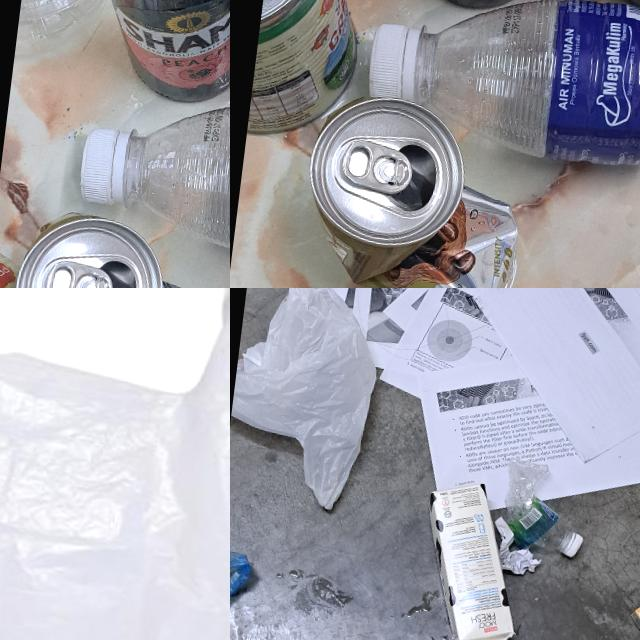aba de lata: (338, 139, 414, 196), (41, 261, 115, 288)
caixinha: (408, 473, 535, 640)
garrafa de vidro: (57, 0, 230, 113)
garrafa plástica: (408, 0, 640, 180), (121, 82, 230, 280), (498, 453, 596, 562), (13, 0, 145, 67)
lata: (291, 88, 536, 288), (245, 0, 379, 144), (8, 205, 230, 288), (0, 237, 60, 288)
papel: (302, 288, 640, 532), (486, 513, 546, 577)
sacola plástica: (0, 288, 230, 640), (230, 288, 387, 515), (230, 543, 259, 640)
tampa plástica: (364, 22, 422, 104), (78, 124, 128, 209), (561, 528, 586, 556)
